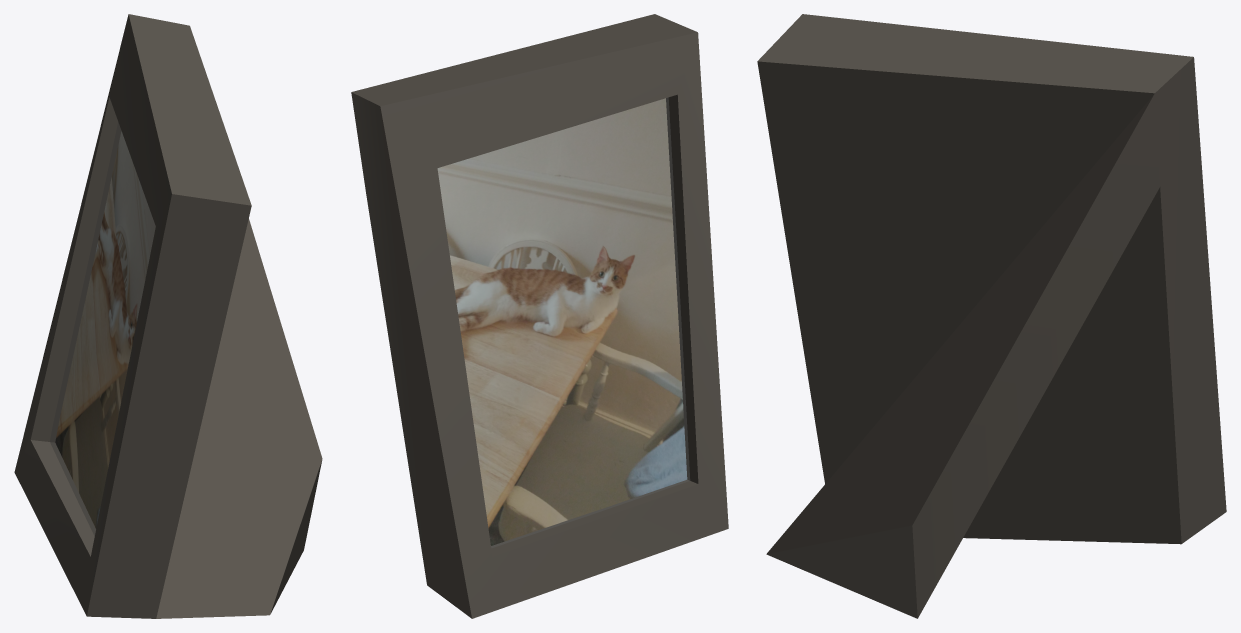
File: Photo Frame 04.fbx
3 renders of one model, left to right at view 1: azimuth 30°, elevation 25°; view 2: azimuth 150°, elevation 25°; view 3: azimuth 270°, elevation 25°, orthographic. The views are drawn at different scales.
Visible parts, largest first — view 1: pCube5, pPlane2, pPlane1; view 2: pCube5, pPlane2, pPlane1; view 3: pCube5.
Boxes of the visible parts, box(x1,y1,x2,y2) form: pCube5: box(14, 14, 322, 618); pPlane2: box(50, 122, 155, 535); pPlane1: box(55, 131, 155, 528); pCube5: box(351, 14, 728, 618); pPlane2: box(438, 98, 689, 547); pPlane1: box(437, 98, 687, 545); pCube5: box(757, 14, 1226, 618).
Bounding box in the file's own units: 0.3099 × 0.5399 × 0.4292.
3 materials, 1 textured.
